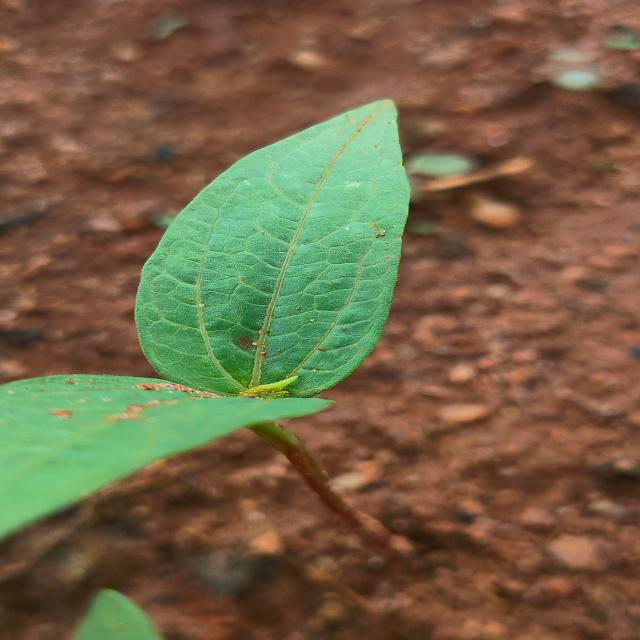Black gram_healthy: (142, 100, 408, 412)
